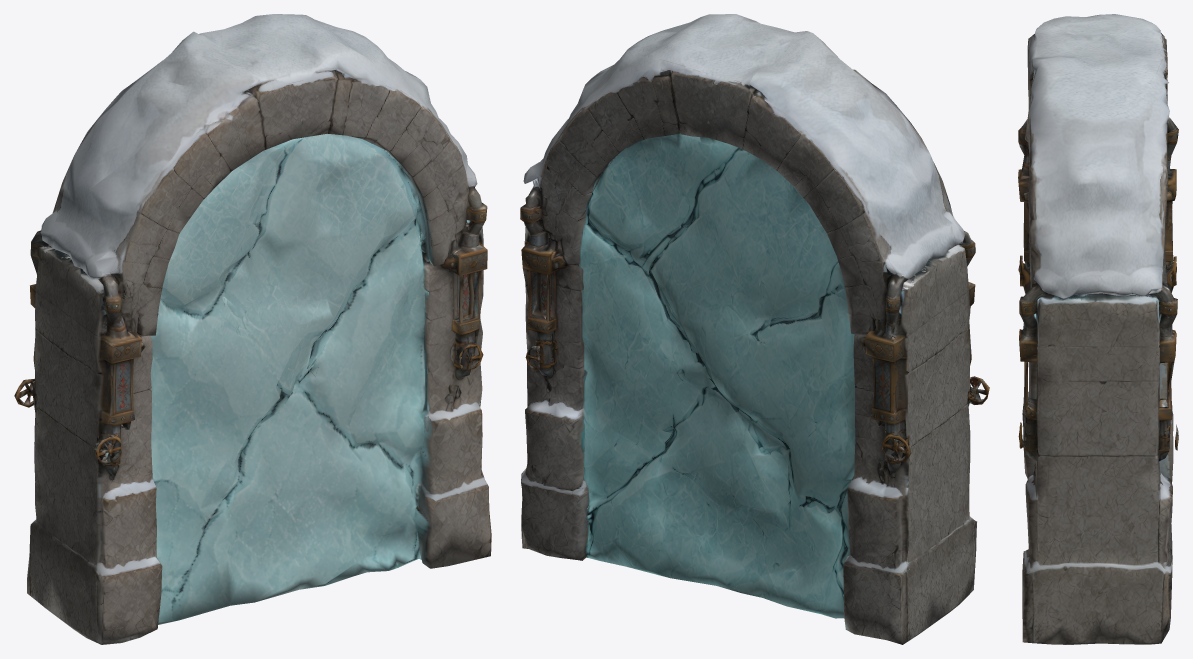
File: PR_IceGate.fbx
3 renders of one model, left to right at view 1: azimuth 30°, elevation 25°; view 2: azimuth 150°, elevation 25°; view 3: azimuth 270°, elevation 25°, orthographic. The views are drawn at different scales.
Parts seen in each view (by area): view 1: texture_mapping; view 2: texture_mapping; view 3: texture_mapping.
Part boxes in pixels (<box>): texture_mapping: <box>14,14,491,644</box>; texture_mapping: <box>520,14,989,644</box>; texture_mapping: <box>1018,14,1178,644</box>.
Bounding box in the file's own units: 0.7904 × 0.283 × 1.
Materials: 1 (1 with a texture image).
